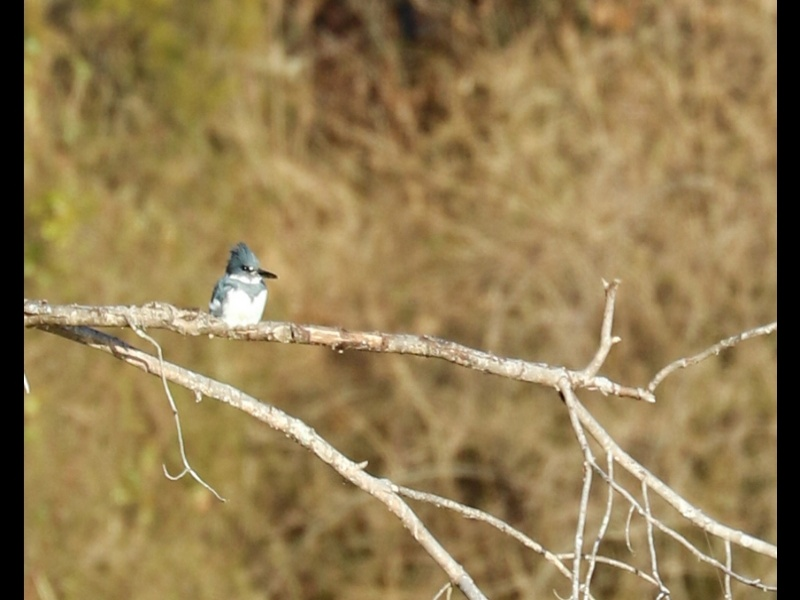kingfisher: (207, 241, 279, 326)
